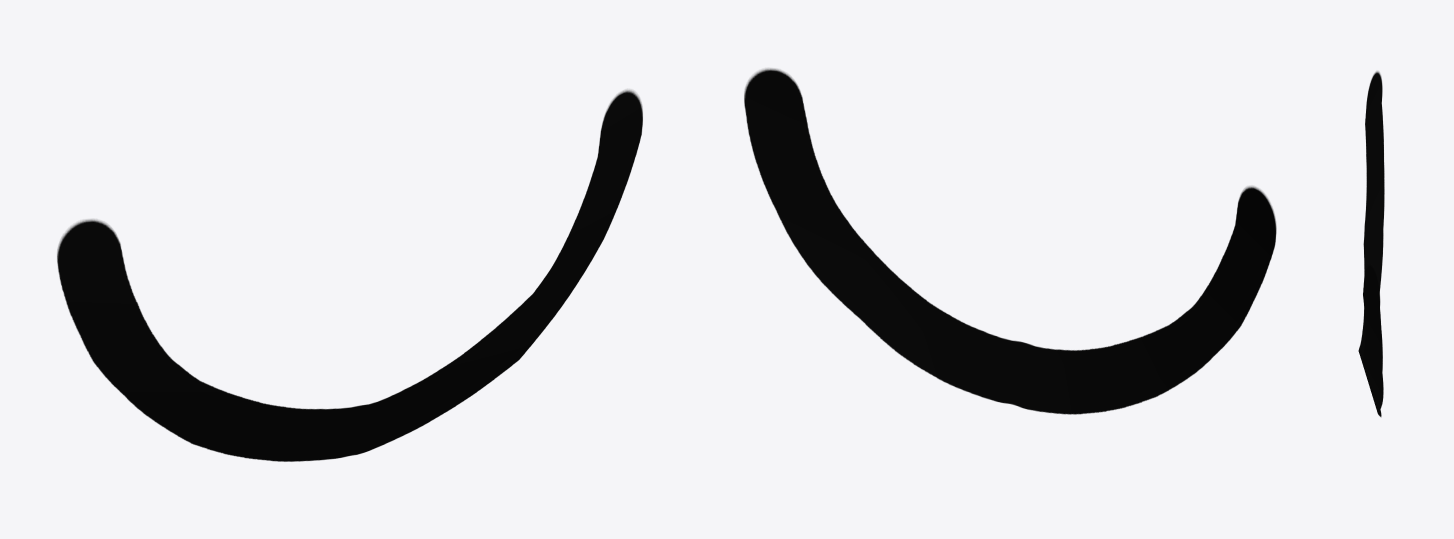
The model's file is Mouth1.glb.
3 renders of one model, left to right at view 1: azimuth 30°, elevation 25°; view 2: azimuth 150°, elevation 25°; view 3: azimuth 270°, elevation 25°, orthographic. The views are drawn at different scales.
Visible parts, largest first — view 1: Mouth1; view 2: Mouth1; view 3: Mouth1.
Part boxes in pixels (x1,y1,x2,y2): Mouth1: (57,90,642,461); Mouth1: (744,68,1276,414); Mouth1: (1358,71,1384,416).
Size of the model in its own units: 0.1198 by 0.0712 by 0.0253.
1 material, 1 textured.
